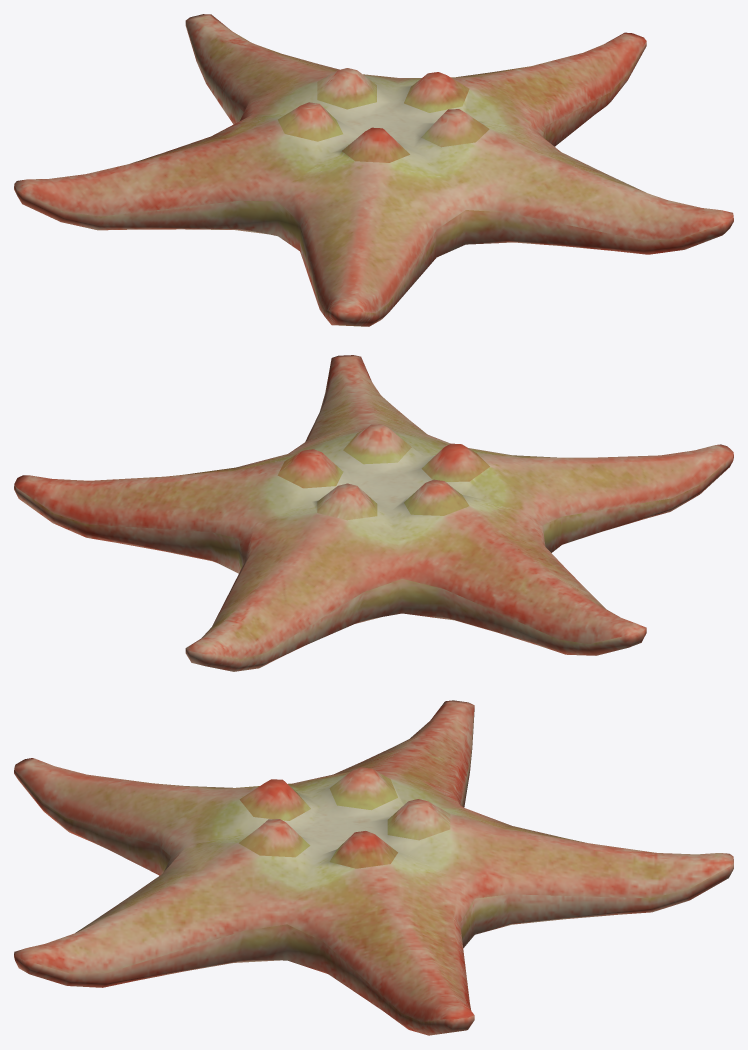
The model's file is SM_Souvenirs01M.FBX.
The picture shows the model from 3 angles, top to bottom: view 1: azimuth 30°, elevation 25°; view 2: azimuth 150°, elevation 25°; view 3: azimuth 270°, elevation 25°; orthographic projection. The views are drawn at different scales.
Visible parts, largest first — view 1: SM_Souvenirs01M_LOD0; view 2: SM_Souvenirs01M_LOD0; view 3: SM_Souvenirs01M_LOD0.
Boxes of the visible parts, left/top/right/bottom form: SM_Souvenirs01M_LOD0: left=14, top=14, right=733, bottom=326; SM_Souvenirs01M_LOD0: left=14, top=355, right=733, bottom=671; SM_Souvenirs01M_LOD0: left=14, top=700, right=733, bottom=1035.
Size of the model in its own units: 30.91 by 29.44 by 4.35.
